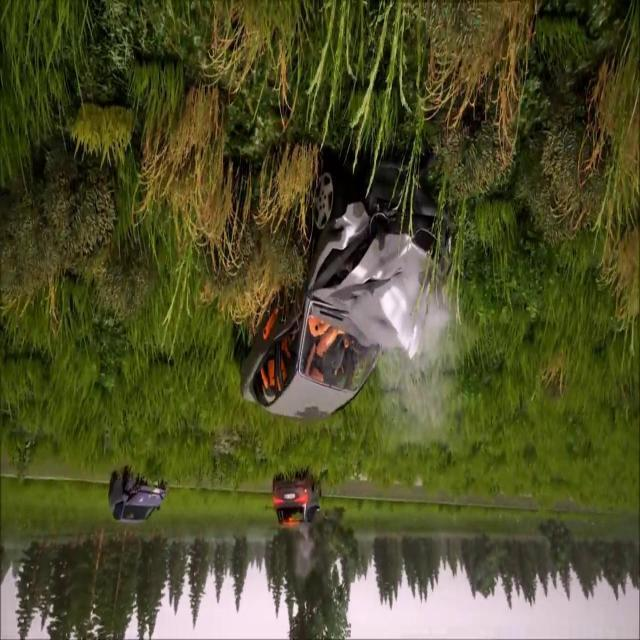severe: (228, 148, 470, 432)
